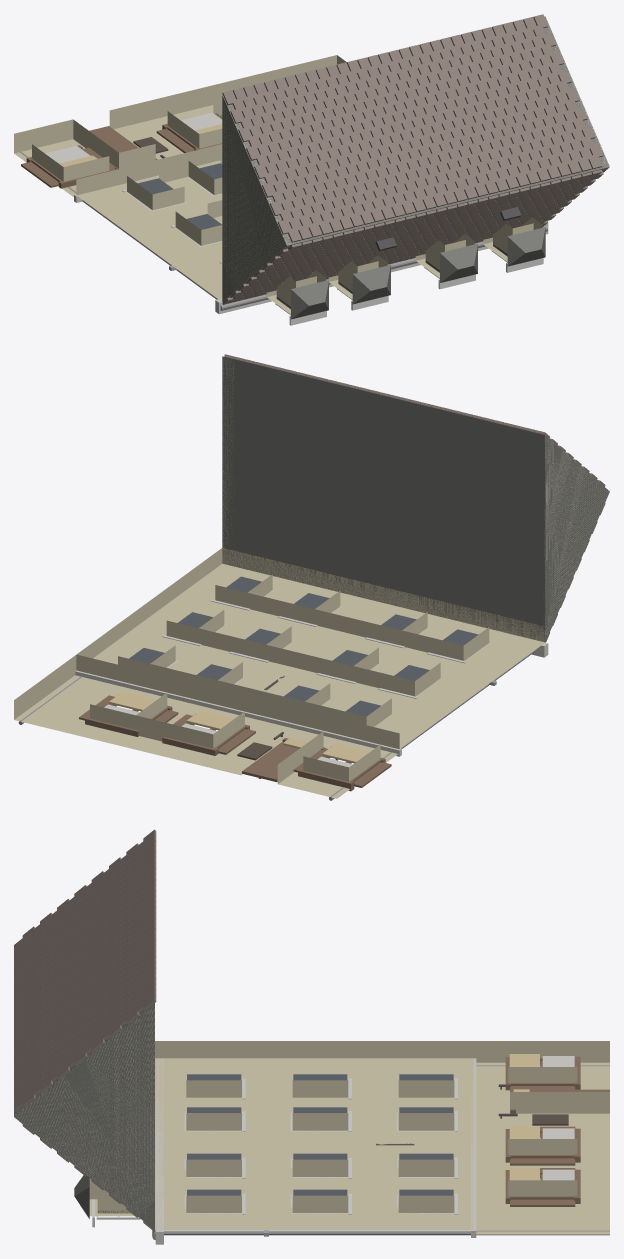
The model's file is oberkirch_measured.glb.
3 views of the same model, one above another, from view 1: azimuth 30°, elevation 25°; view 2: azimuth 150°, elevation 25°; view 3: azimuth 270°, elevation 25° (orthographic). The views are drawn at different scales.
Visible parts, largest first — view 1: dachziegel, fassade, eg_sockel, dach, gaube_dach, gaube, giebel, schaufenster, rahmen, fenster, gardine, rinne (+1 smaller); view 2: dach, fassade, eg_sockel, schaufenster, giebel, fenster, gesims, warmlicht, dachziegel, rahmen; view 3: fassade, dachziegel, eg_sockel, dach, giebel, fenster, schaufenster, rinne, gesims, rahmen, warmlicht, gardine (+1 smaller).
Part boxes in pixels (x1,y1,x2,y2): dachziegel: (222,14,603,304); fassade: (76,144,222,301); eg_sockel: (14,55,346,196); dach: (222,16,609,301); gaube_dach: (291,227,545,319); gaube: (266,217,542,314); giebel: (222,19,609,299); schaufenster: (21,113,222,188); rahmen: (122,179,543,325); fenster: (138,163,507,308); gardine: (45,112,222,163); rinne: (20,151,547,310); dach: (222,356,609,641); fassade: (77,548,545,748); eg_sockel: (14,654,399,798); schaufenster: (79,694,391,791); giebel: (222,357,608,634); fenster: (129,576,478,716); gesims: (75,568,548,756); warmlicht: (109,691,369,763); dachziegel: (224,354,605,642); rahmen: (162,590,486,698); fassade: (155,1041,473,1230); dachziegel: (14,829,156,1231); eg_sockel: (473,1041,609,1234); dach: (14,1003,154,1229); giebel: (14,1006,154,1222); fenster: (97,1074,453,1212); schaufenster: (505,1056,609,1206); rinne: (152,1065,609,1239); gesims: (155,1058,476,1244); rahmen: (92,1078,457,1227); warmlicht: (509,1054,539,1180); gardine: (542,1056,574,1180).
Size of the model in its own units: 10.99 by 8.12 by 15.51.
